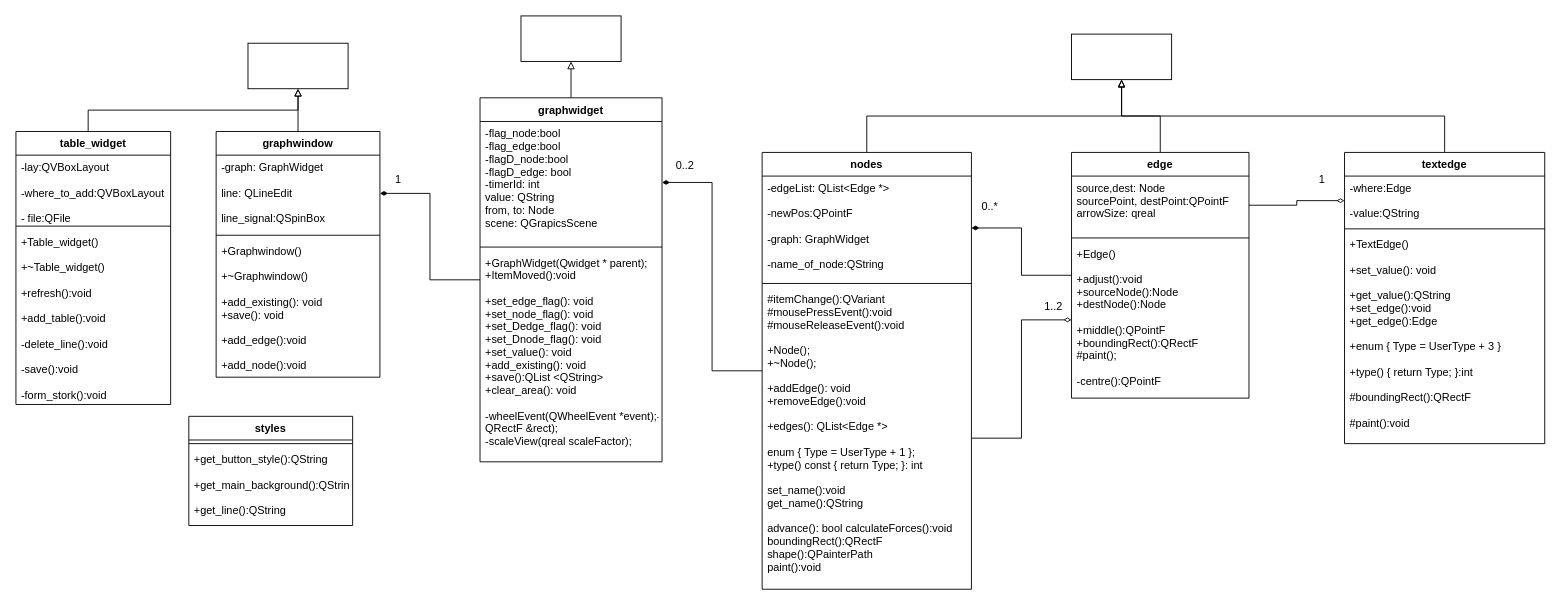
Image size: 1561x608. Some labels were removed from this diagram. The box of each missing label's shape, as (x1, y1, x2, y2) in pixels:
QGraphicsItem: (1071, 33, 1172, 80)
QGraphicsVIew: (520, 15, 621, 61)
QWIdget: (247, 42, 348, 89)
